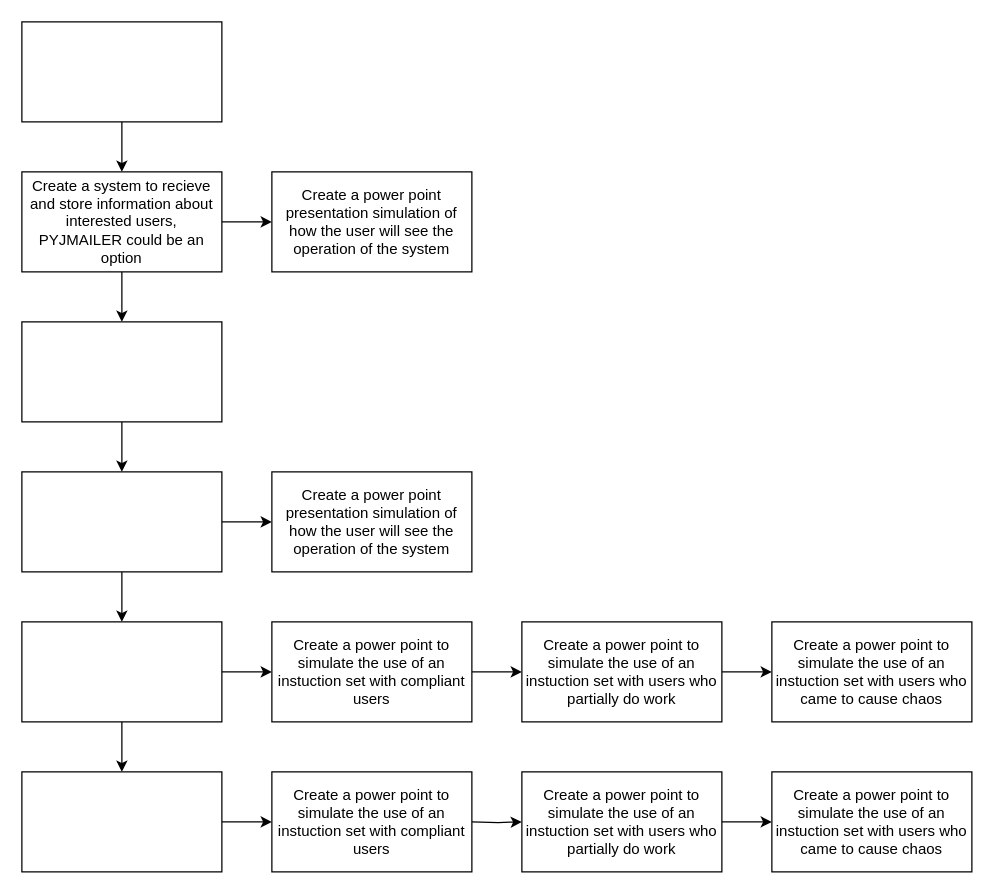
This 994x894 diagram has some shape labels left out. The box of each missing label's shape, as (x1, y1, x2, y2) in pixels:
Create an application into which the instruction sets will be loaded: (21, 321, 222, 422)
Create an instruction set for the organising team of the hackathon: (21, 621, 222, 722)
Create an instruction set for the participants of the hackathon: (21, 771, 222, 872)
Find a way to contact the users, PYJMAILER could be an option: (21, 471, 222, 572)
Human program section: (21, 21, 222, 122)
